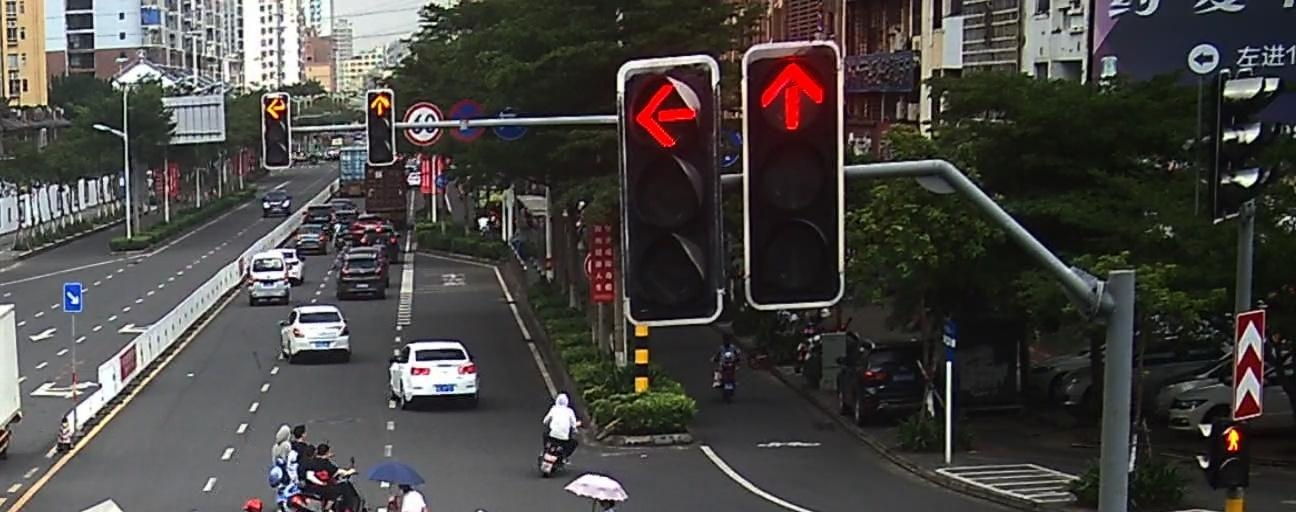redleft: (629, 81, 700, 151), (264, 96, 287, 120)
redpeople: (1219, 424, 1243, 453)
redstraight: (757, 59, 828, 133), (368, 94, 394, 119)
